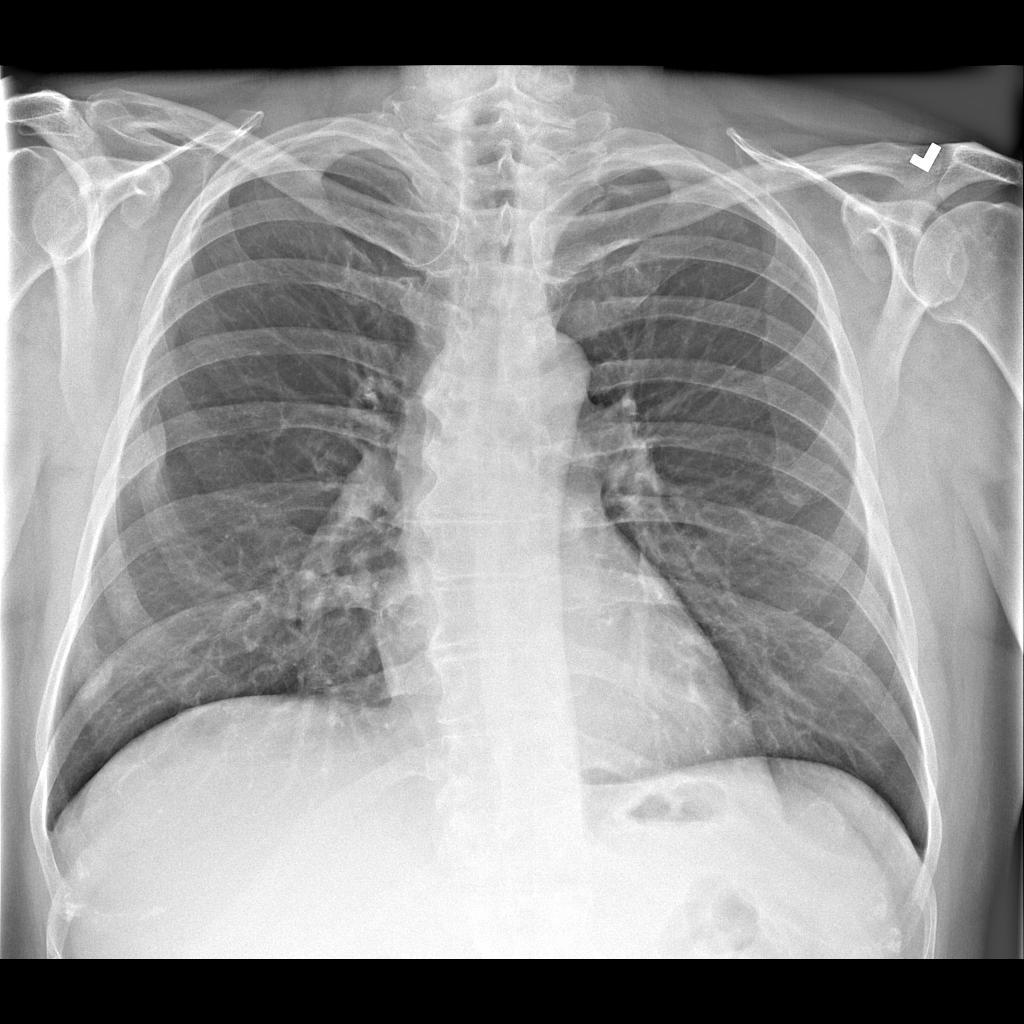Nodule: (110, 392, 164, 511), (63, 630, 118, 710)
